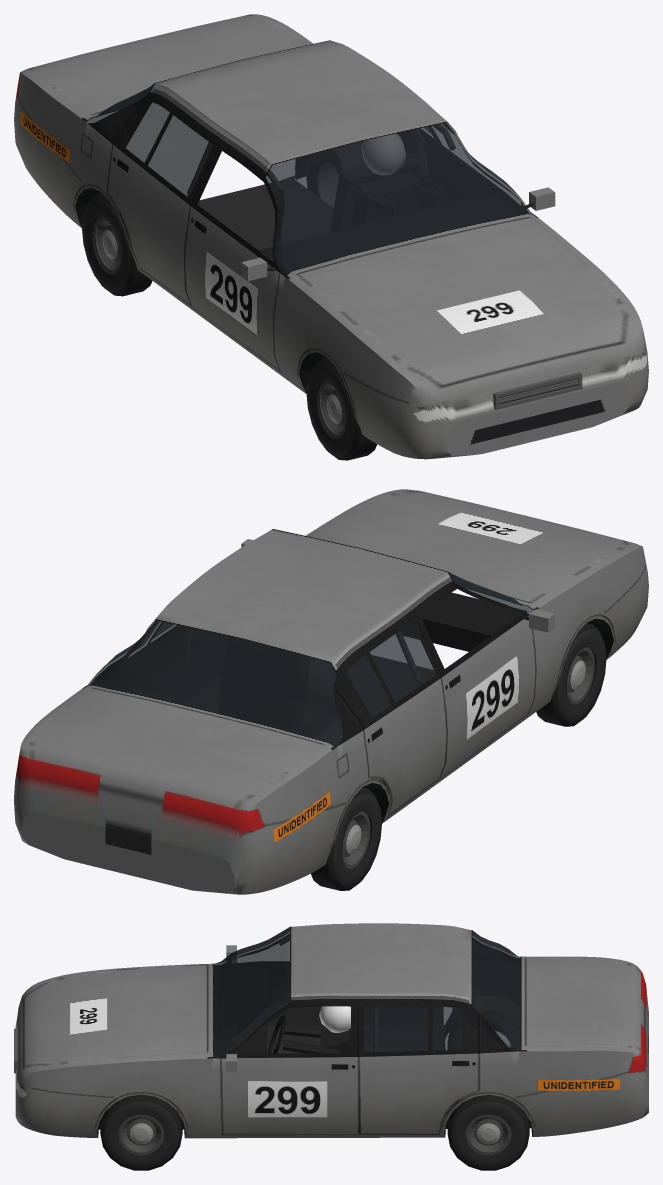
The picture shows the model from 3 angles, top to bottom: view 1: azimuth 30°, elevation 25°; view 2: azimuth 150°, elevation 25°; view 3: azimuth 270°, elevation 25°; orthographic projection. The views are drawn at different scales.
Visible parts, largest first — view 1: body, wheel_fr, wheel_rr, wheel_rl; view 2: body, wheel_rr, wheel_fr; view 3: body, wheel_fl, wheel_rl, wheel_rr.
Boxes of the visible parts, <box> form: body: <box>14,14,648,459</box>; wheel_fr: <box>306,356,376,460</box>; wheel_rr: <box>82,192,152,296</box>; wheel_rl: <box>306,149,343,207</box>; body: <box>14,489,648,894</box>; wheel_rr: <box>311,787,381,890</box>; wheel_fr: <box>536,623,606,726</box>; body: <box>14,923,648,1138</box>; wheel_fl: <box>100,1094,182,1170</box>; wheel_rl: <box>447,1094,529,1170</box>; wheel_rr: <box>448,1010,519,1050</box>.
Bounding box in the file's own units: 2.07 × 1.41 × 4.79.
Materials: 3 (2 with a texture image).
